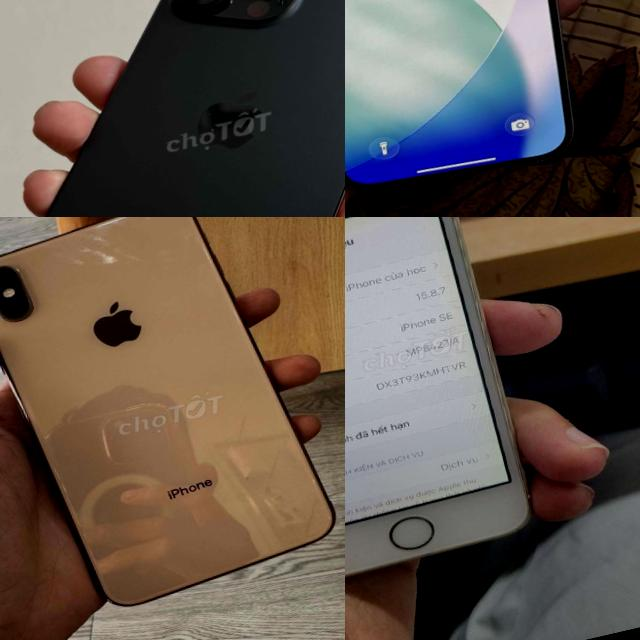scratch: (237, 464, 266, 492)
